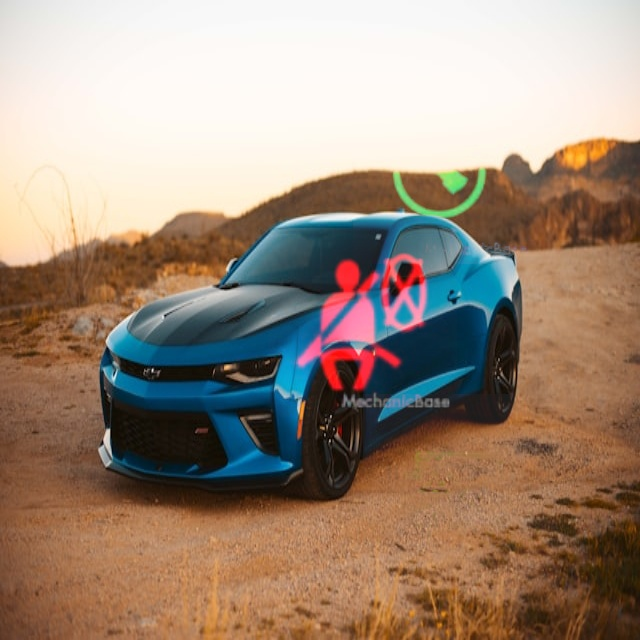symbol: (363, 394, 558, 589), (268, 228, 457, 417), (353, 83, 534, 264)
